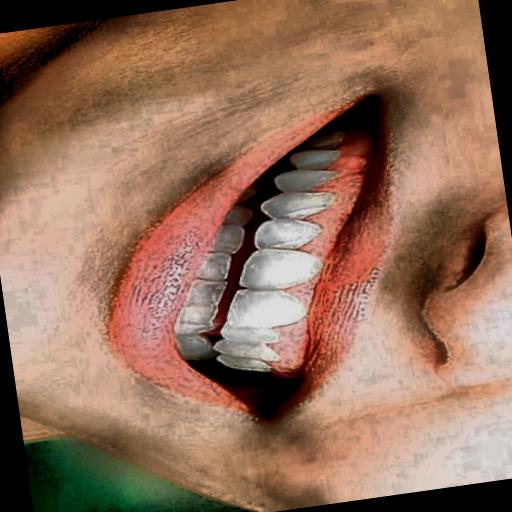Healthy: (132, 101, 380, 401)
